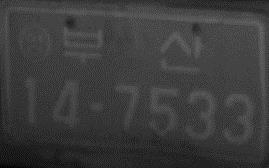-: (87, 98, 108, 117)
1: (20, 72, 44, 127)
3: (220, 91, 259, 146), (182, 87, 217, 140)
4: (49, 77, 85, 132)
5: (145, 85, 183, 138)
7: (112, 82, 142, 130)
부산_D: (60, 20, 206, 74)
영: (16, 23, 53, 64)
